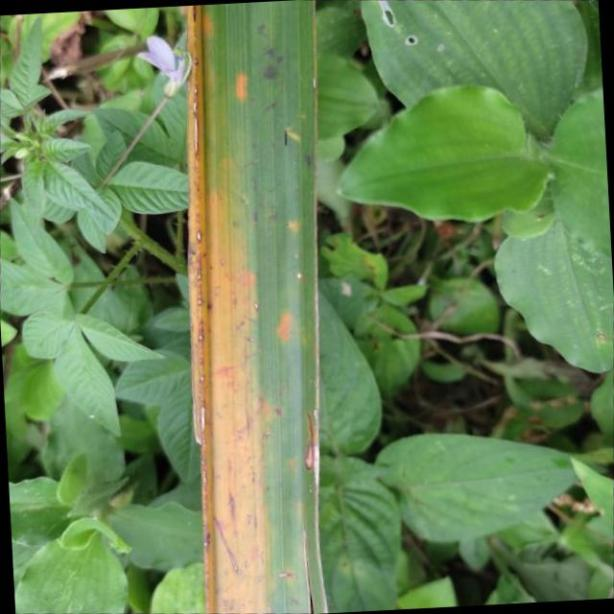Megnesium: (187, 0, 318, 614)
